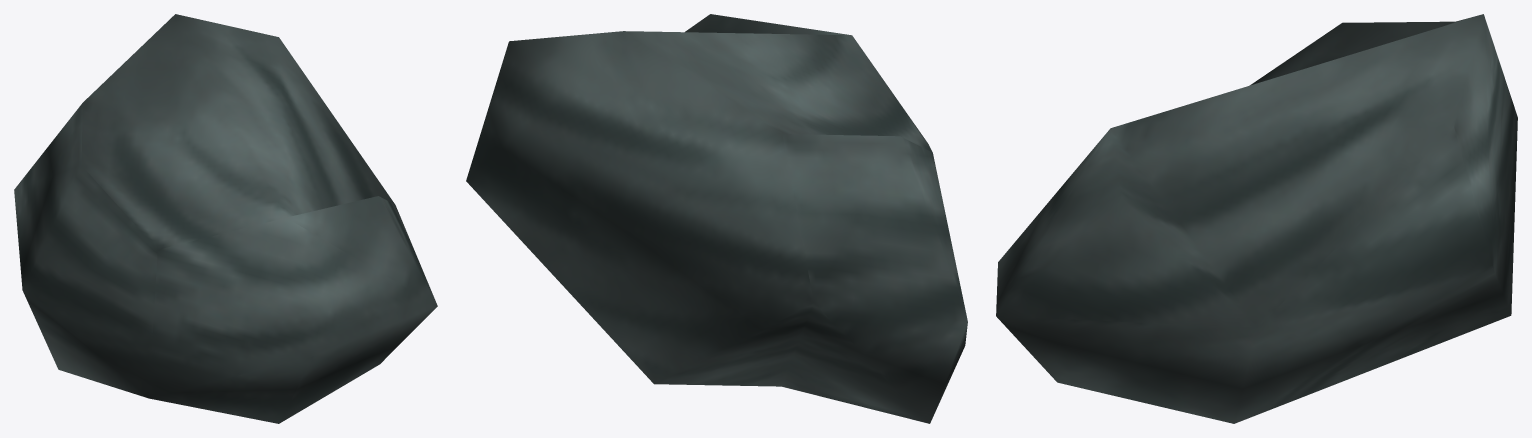
The model's file is Rock1_MESH.fbx.
The picture shows the model from 3 angles, left to right: view 1: azimuth 30°, elevation 25°; view 2: azimuth 150°, elevation 25°; view 3: azimuth 270°, elevation 25°; orthographic projection. The views are drawn at different scales.
Visible parts, largest first — view 1: Rock1:pCube1; view 2: Rock1:pCube1; view 3: Rock1:pCube1.
Part boxes in pixels (x1,y1,x2,y2): Rock1:pCube1: (14, 14, 437, 423); Rock1:pCube1: (466, 14, 967, 423); Rock1:pCube1: (996, 14, 1517, 423).
Bounding box in the file's own units: 51.25 × 42.86 × 50.52.
1 material, 1 textured.
